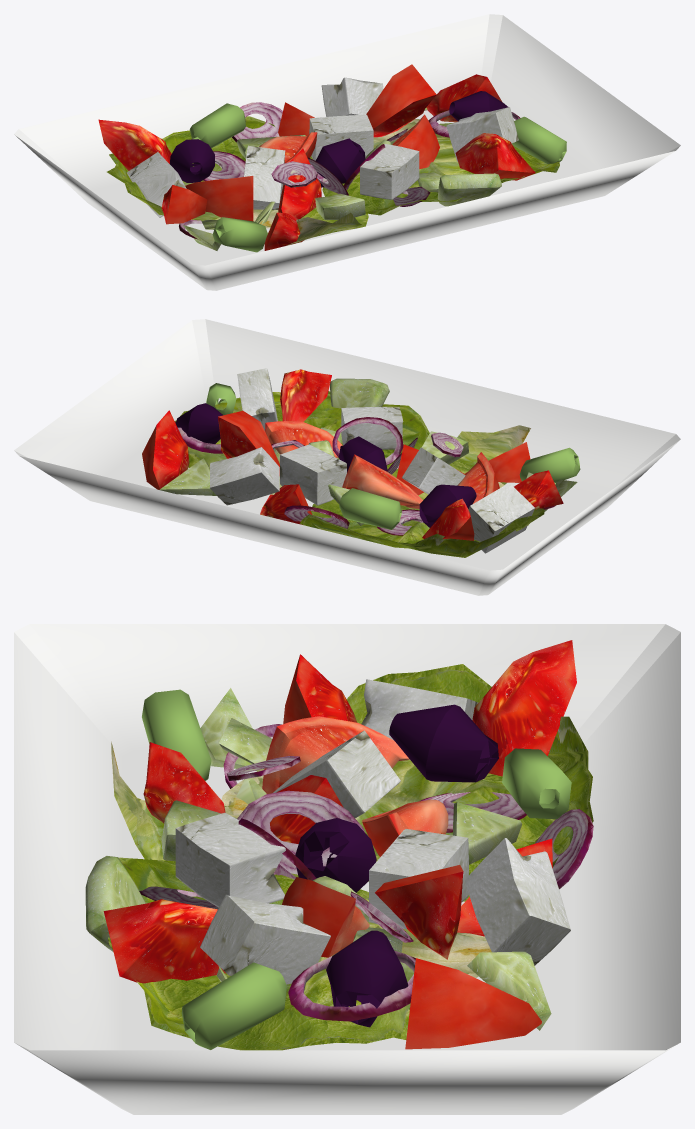
Rendered from Sala_Reduce.fbx.
3 views of the same model, one above another, from view 1: azimuth 30°, elevation 25°; view 2: azimuth 150°, elevation 25°; view 3: azimuth 270°, elevation 25° (orthographic). The views are drawn at different scales.
Parts seen in each view (by area): view 1: archmodels76_027_01, archmodels76_027_06, archmodels76_027_09, polySurface2, archmodels76_027_08, archmodels76_027_07, archmodels76_027_03, archmodels76_027_04, archmodels76_027_05; view 2: archmodels76_027_01, archmodels76_027_09, archmodels76_027_06, polySurface2, archmodels76_027_04, archmodels76_027_03, archmodels76_027_08, archmodels76_027_05, archmodels76_027_07; view 3: archmodels76_027_01, archmodels76_027_06, archmodels76_027_09, polySurface2, archmodels76_027_05, archmodels76_027_03, archmodels76_027_07, archmodels76_027_08, archmodels76_027_04.
Part boxes in pixels (box(x1,y1,x2,y2)): archmodels76_027_01: box(14, 14, 680, 290); archmodels76_027_06: box(98, 64, 535, 250); archmodels76_027_09: box(127, 77, 518, 217); polySurface2: box(107, 116, 559, 245); archmodels76_027_08: box(189, 103, 566, 252); archmodels76_027_07: box(179, 102, 520, 239); archmodels76_027_03: box(183, 107, 501, 250); archmodels76_027_04: box(185, 114, 439, 221); archmodels76_027_05: box(170, 91, 508, 187); archmodels76_027_01: box(14, 319, 680, 595); archmodels76_027_09: box(209, 368, 534, 553); archmodels76_027_06: box(142, 369, 563, 540); polySurface2: box(174, 391, 544, 557); archmodels76_027_04: box(265, 421, 499, 508); archmodels76_027_03: box(159, 378, 577, 525); archmodels76_027_08: box(206, 383, 580, 529); archmodels76_027_05: box(176, 403, 476, 527); archmodels76_027_07: box(175, 417, 555, 535); archmodels76_027_01: box(14, 624, 680, 1114); archmodels76_027_06: box(103, 640, 576, 1049); archmodels76_027_09: box(175, 679, 570, 984); polySurface2: box(108, 664, 593, 1050); archmodels76_027_05: box(295, 704, 498, 1027); archmodels76_027_03: box(85, 688, 551, 1030); archmodels76_027_07: box(139, 724, 593, 1021); archmodels76_027_08: box(142, 689, 571, 1049); archmodels76_027_04: box(262, 716, 448, 957).
Size of the model in its own units: 18.35 by 3.07 by 12.13.
